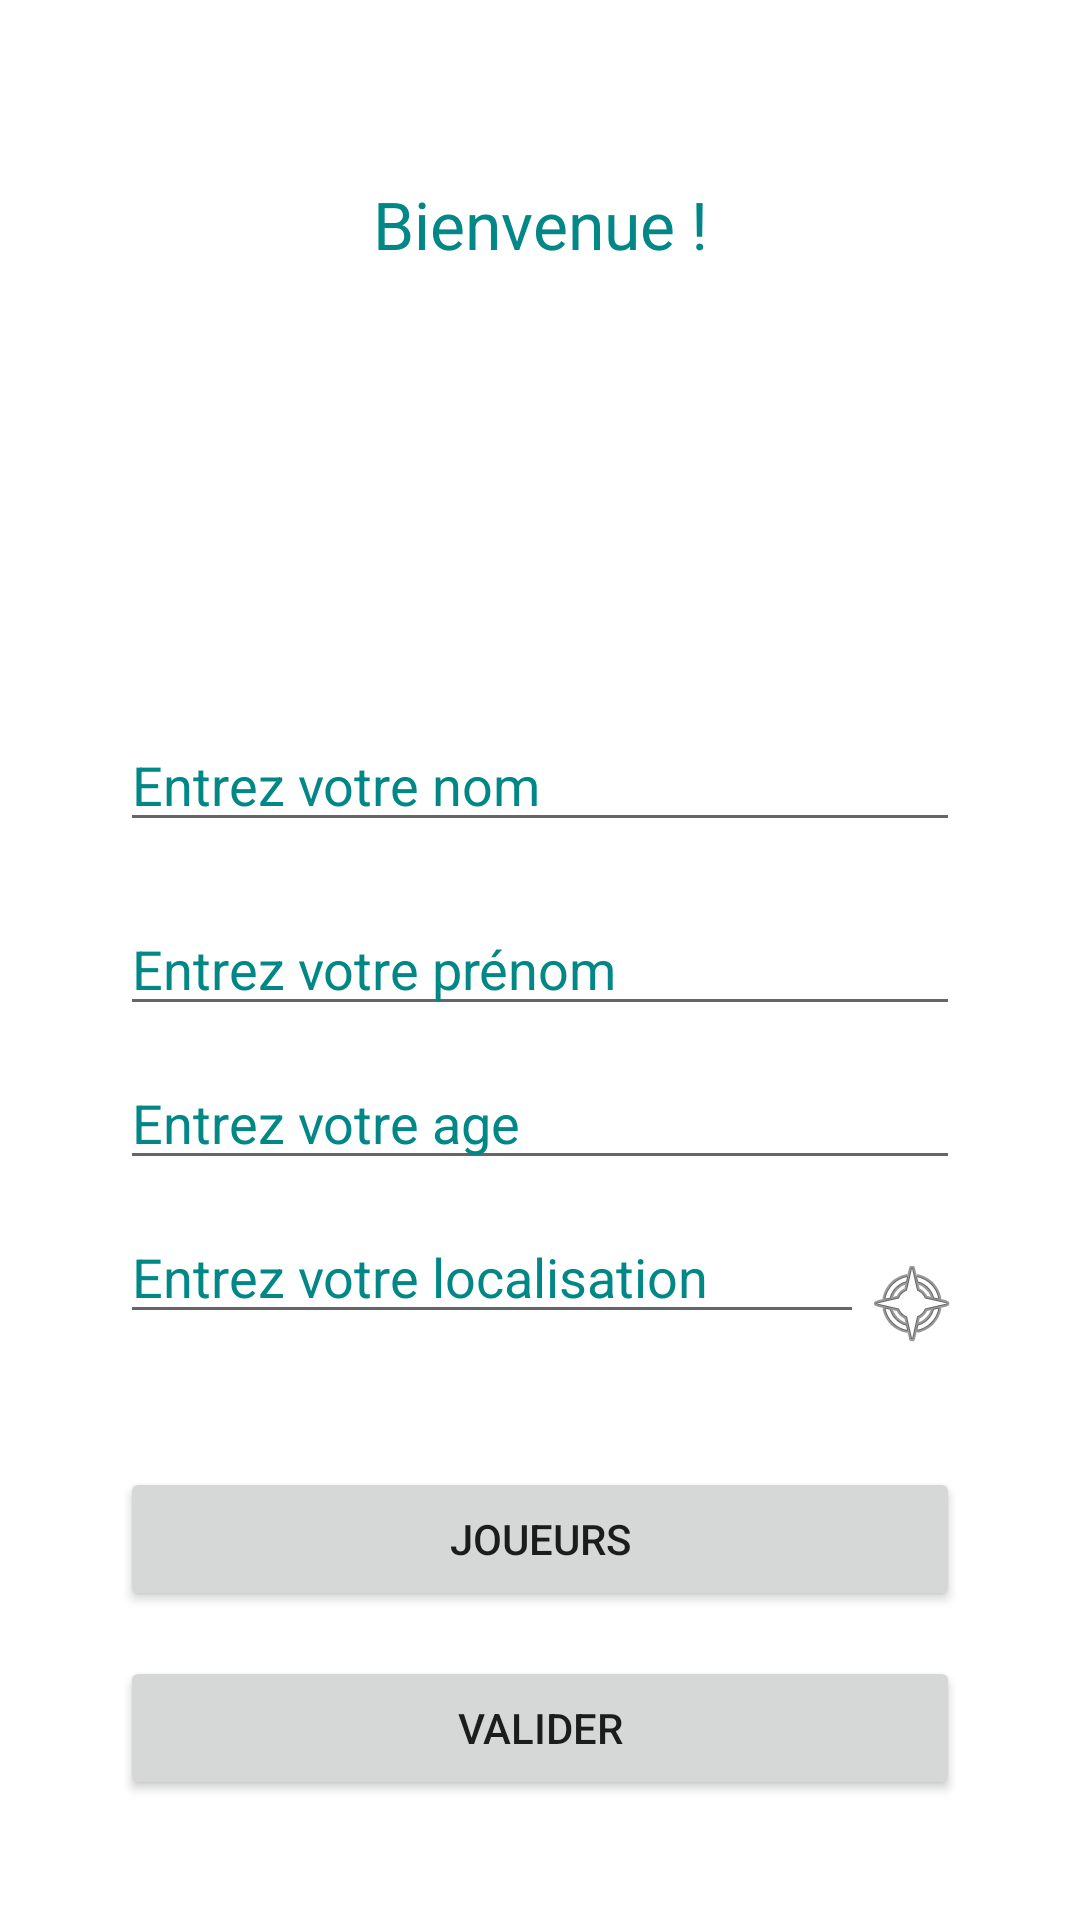

Named icons in this screenshot (1080 × 1920) and their centers, (x=x, y=y):
compass: (x=912, y=1303)
